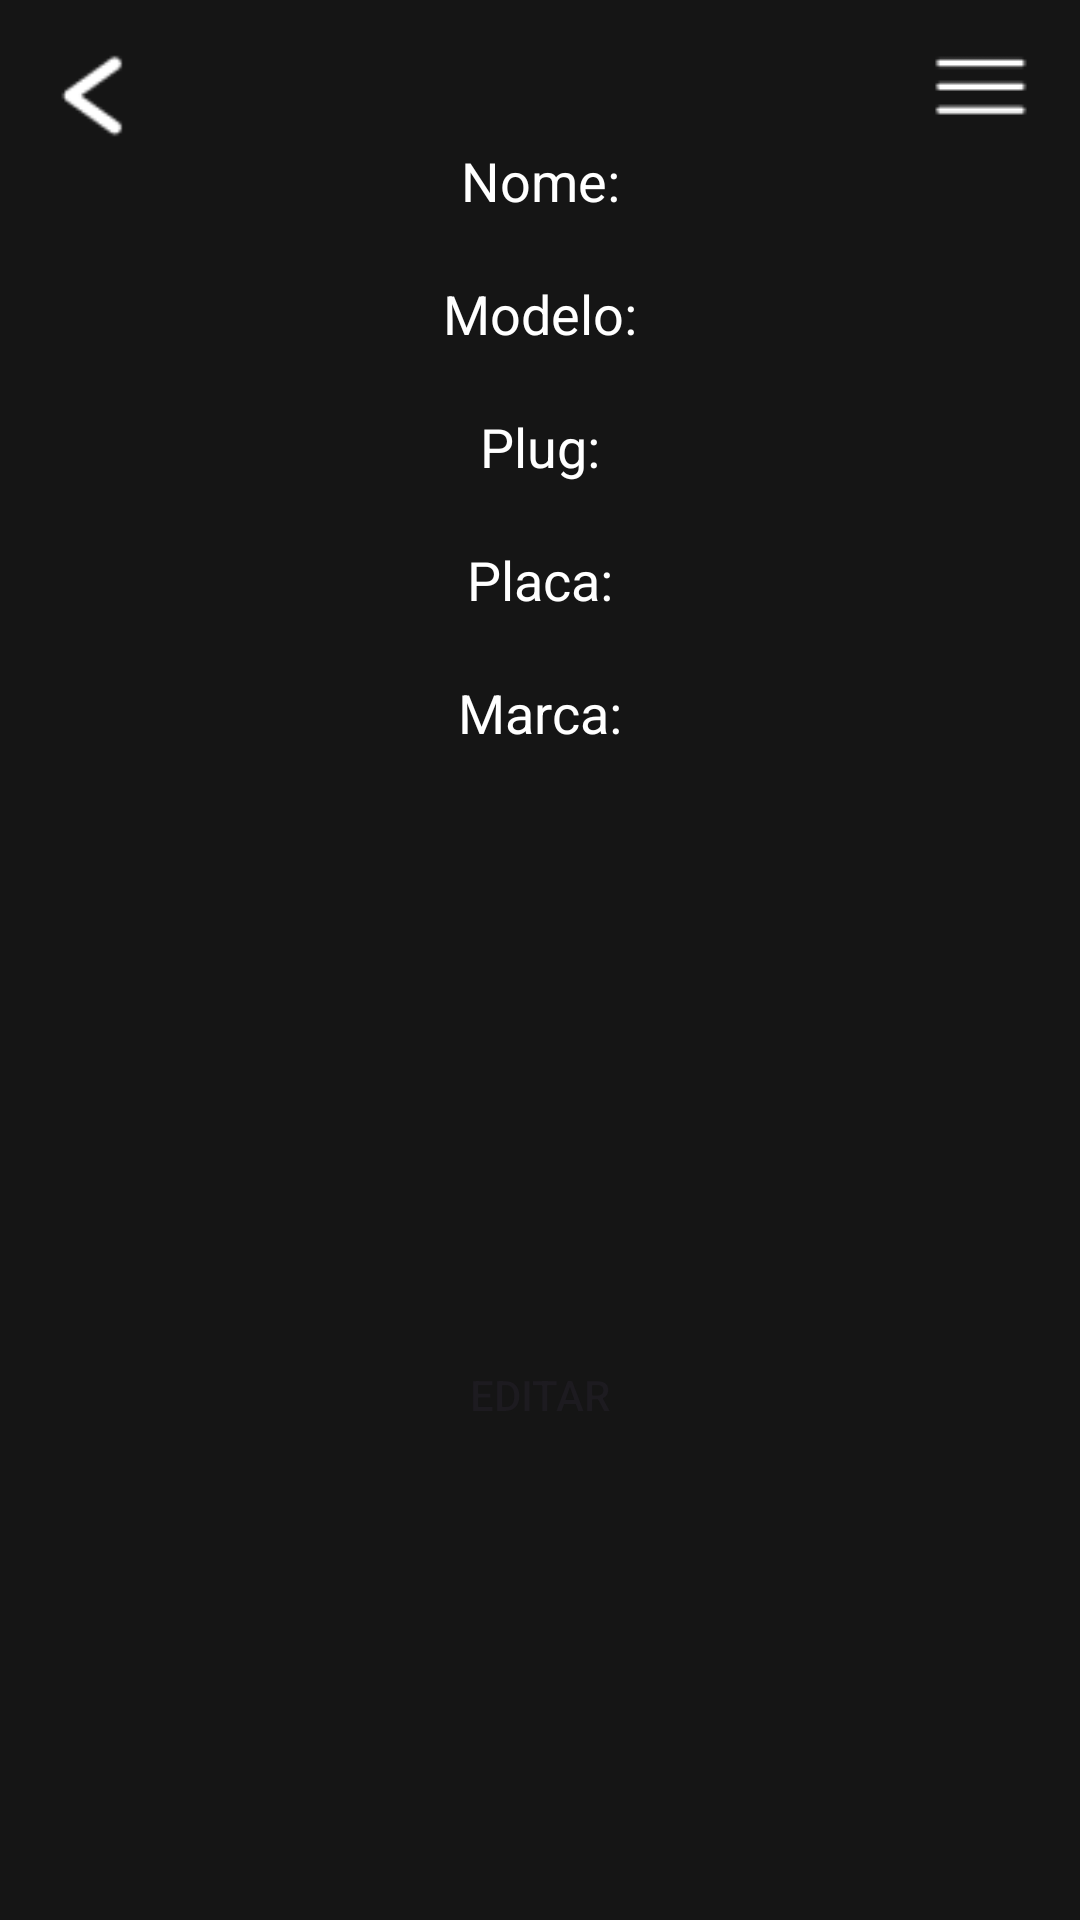

Icon click points for this 1080px x 1920px phone screenshot, format point (x, y):
Voltar: point (92, 96)
